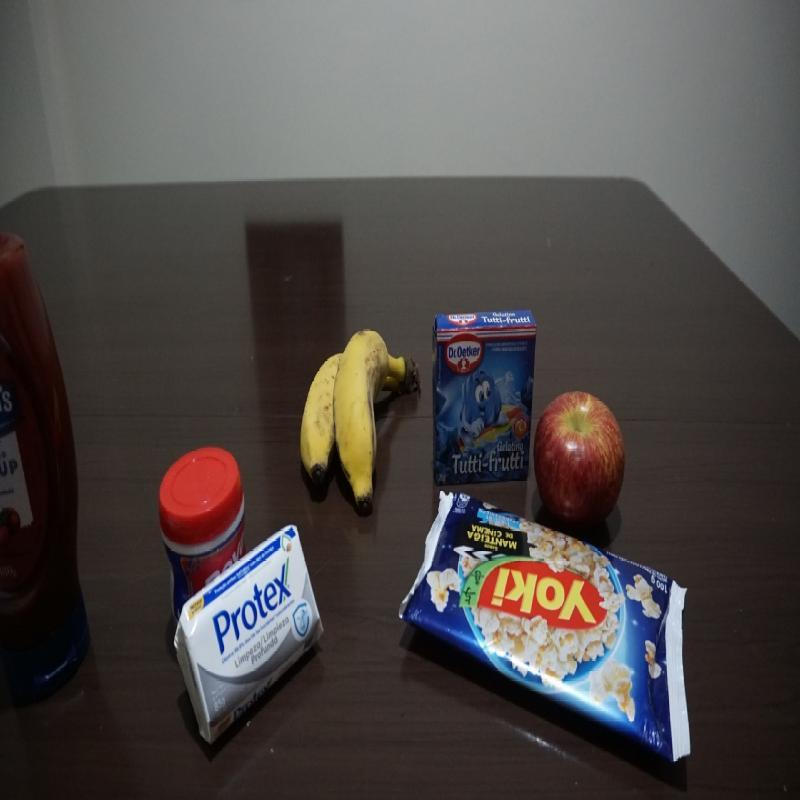Apple: (532, 385, 626, 532)
Banana: (300, 328, 421, 516)
Gelatine: (430, 310, 538, 482)
Ketchup: (0, 221, 92, 702)
Popcorn: (396, 486, 689, 762)
Soap: (174, 516, 324, 758)
Yeast: (156, 439, 257, 618)
